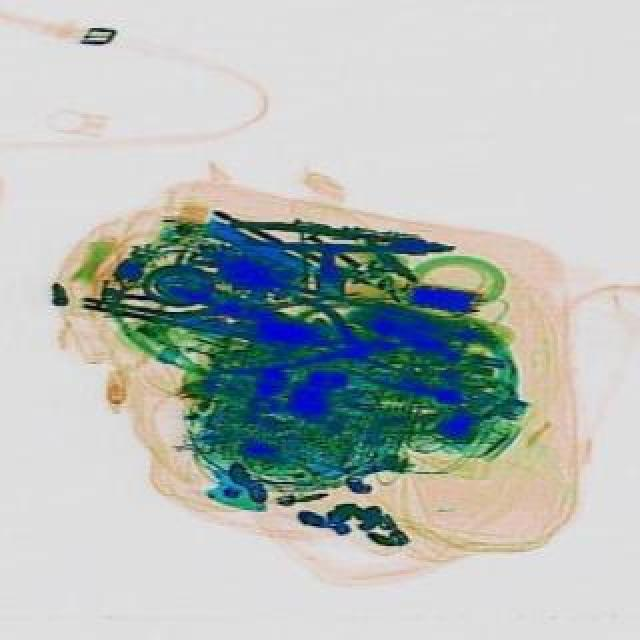wrench: (224, 290, 408, 404), (232, 220, 460, 264)
